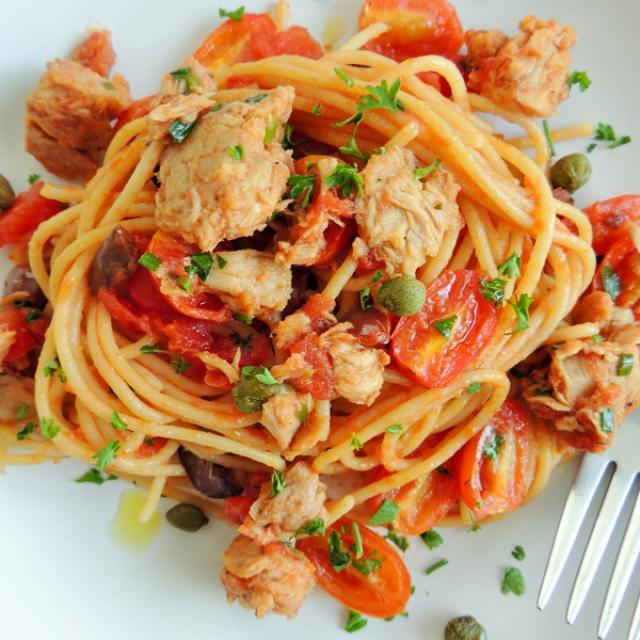Oil pasta: (27, 25, 607, 563)
